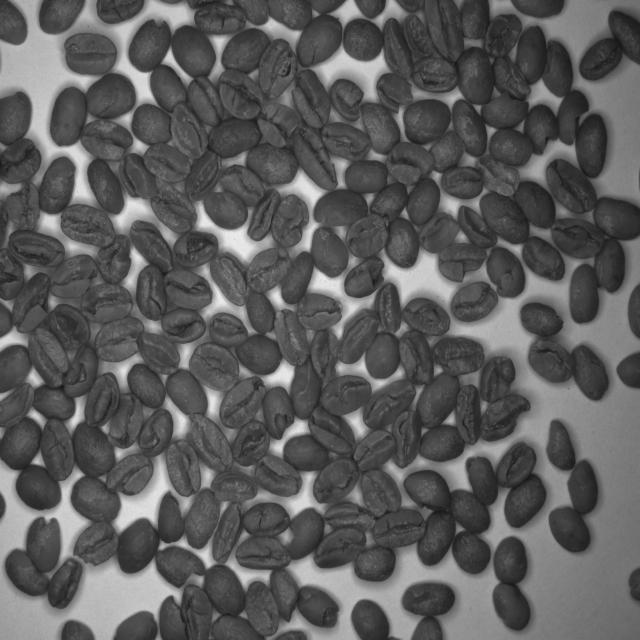bad: (360, 377, 420, 432), (184, 410, 233, 474), (292, 125, 338, 192), (545, 156, 597, 214), (478, 191, 531, 247), (187, 341, 240, 394), (422, 0, 466, 63), (26, 326, 70, 389), (551, 212, 606, 262), (59, 201, 116, 249), (315, 372, 372, 420), (127, 216, 174, 273), (10, 270, 51, 335), (480, 392, 532, 443), (78, 115, 134, 162), (183, 487, 222, 554), (258, 36, 298, 101), (216, 374, 266, 426), (150, 182, 198, 236), (90, 315, 144, 363), (127, 16, 171, 73), (38, 416, 76, 482), (154, 543, 206, 591), (282, 504, 325, 562), (218, 68, 264, 122), (136, 324, 182, 378), (292, 68, 332, 130), (62, 31, 117, 76), (338, 307, 382, 363), (312, 525, 368, 569), (243, 244, 292, 294), (306, 406, 355, 456), (72, 518, 120, 569), (38, 154, 78, 215), (168, 102, 210, 160), (371, 507, 427, 550), (403, 467, 452, 516), (210, 248, 250, 308), (296, 16, 342, 68), (383, 138, 435, 184), (402, 292, 454, 338), (211, 498, 245, 568), (527, 335, 574, 385), (311, 458, 361, 505), (163, 267, 214, 313), (360, 99, 402, 154), (180, 149, 222, 204), (431, 335, 486, 377), (7, 229, 66, 268), (253, 452, 303, 498), (104, 452, 154, 498), (46, 254, 98, 298), (398, 328, 436, 388), (106, 390, 144, 450), (80, 282, 134, 324), (185, 74, 226, 129), (322, 120, 373, 164), (437, 240, 488, 284), (539, 37, 575, 99), (486, 244, 527, 298), (359, 468, 403, 518), (489, 51, 532, 102), (522, 234, 565, 285), (271, 192, 310, 248), (83, 370, 120, 429), (593, 235, 628, 297), (274, 305, 309, 367), (46, 554, 84, 611), (220, 162, 265, 210), (26, 514, 62, 574), (495, 438, 538, 488), (62, 342, 99, 400), (234, 535, 292, 572), (554, 88, 590, 147), (244, 579, 280, 638), (476, 154, 522, 200), (202, 187, 249, 232), (296, 583, 341, 630), (345, 212, 389, 260), (48, 301, 91, 350), (116, 152, 158, 202), (388, 409, 423, 469), (522, 102, 560, 157), (244, 185, 280, 243), (166, 438, 202, 496), (290, 359, 323, 422), (566, 455, 600, 516), (257, 100, 300, 148), (449, 281, 499, 322), (476, 354, 517, 404), (383, 16, 414, 82), (261, 384, 296, 442), (352, 429, 397, 474), (4, 179, 42, 232), (135, 263, 168, 324), (158, 306, 207, 347), (464, 452, 500, 507), (456, 204, 499, 250), (172, 228, 219, 270), (296, 291, 344, 332), (480, 92, 530, 131), (96, 232, 132, 286), (0, 137, 42, 183), (373, 68, 414, 115), (210, 466, 258, 506), (138, 406, 174, 459), (267, 567, 301, 623), (240, 501, 290, 539), (412, 53, 458, 94), (181, 583, 214, 640), (482, 11, 522, 58), (518, 300, 565, 340), (429, 127, 468, 175), (232, 419, 271, 467), (308, 326, 340, 384), (192, 3, 248, 36), (418, 210, 460, 254), (343, 256, 387, 298), (0, 87, 31, 146), (0, 380, 36, 430), (454, 383, 482, 447), (545, 417, 577, 472), (322, 501, 375, 534), (439, 164, 486, 201), (1, 341, 32, 396), (328, 74, 364, 121), (155, 590, 188, 640), (372, 179, 409, 222), (157, 489, 185, 545), (376, 280, 403, 338), (0, 243, 26, 303), (207, 310, 249, 347), (403, 12, 435, 60), (266, 0, 313, 31), (95, 0, 145, 24), (230, 0, 270, 27)
good: (170, 21, 218, 82), (115, 515, 161, 577), (69, 473, 122, 526), (415, 370, 461, 429), (245, 140, 299, 189), (72, 420, 116, 480), (86, 154, 127, 218), (568, 343, 610, 404), (203, 562, 247, 620), (220, 26, 271, 76), (13, 462, 62, 514), (49, 84, 88, 149), (502, 472, 548, 527), (574, 110, 610, 180), (84, 71, 136, 119), (510, 177, 557, 229), (3, 546, 50, 598), (576, 34, 624, 84), (546, 503, 593, 554), (312, 188, 369, 230), (401, 99, 453, 145), (0, 416, 42, 472), (566, 260, 602, 325), (165, 367, 208, 421), (456, 46, 494, 107), (592, 194, 640, 242), (451, 96, 488, 158), (417, 508, 456, 566), (142, 140, 192, 184), (448, 486, 492, 536), (308, 224, 349, 277), (492, 579, 532, 633), (236, 333, 284, 377), (418, 421, 468, 463), (207, 119, 262, 157), (386, 216, 422, 274), (400, 580, 458, 616), (514, 24, 548, 85), (340, 15, 383, 63), (280, 248, 315, 306), (492, 532, 529, 586), (488, 126, 534, 169), (282, 433, 330, 474), (127, 362, 167, 411), (608, 7, 640, 68), (452, 528, 491, 578), (404, 176, 442, 227), (31, 381, 77, 423), (37, 0, 87, 37), (348, 597, 391, 640), (151, 63, 187, 113), (132, 102, 173, 145), (352, 545, 397, 584), (366, 330, 400, 380), (342, 158, 388, 194), (245, 287, 276, 337), (208, 613, 265, 640), (110, 609, 158, 640), (0, 0, 29, 50), (613, 344, 640, 391), (411, 614, 445, 640), (60, 617, 97, 640), (627, 280, 640, 340)
